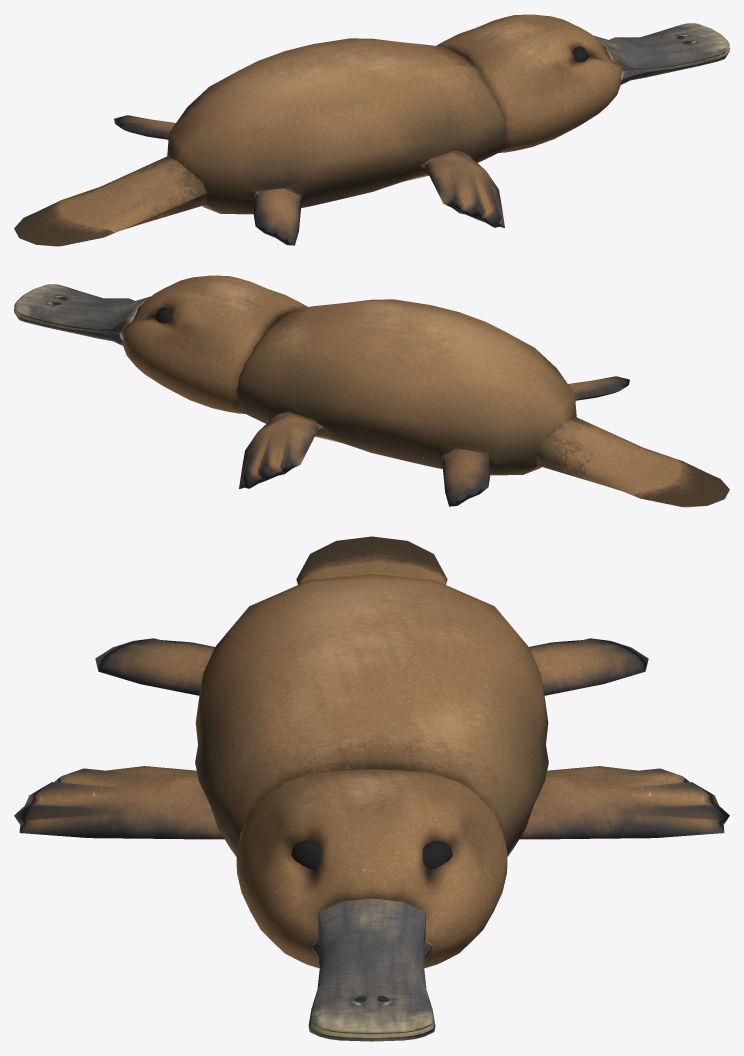
The model's file is platypus.dae.
3 renders of one model, top to bottom at view 1: azimuth 30°, elevation 25°; view 2: azimuth 150°, elevation 25°; view 3: azimuth 270°, elevation 25°, orthographic. The views are drawn at different scales.
Parts seen in each view (by area): view 1: Platypus; view 2: Platypus; view 3: Platypus.
Part boxes in pixels (<box>): Platypus: <box>14,14,729,246</box>; Platypus: <box>14,275,729,507</box>; Platypus: <box>14,536,729,1041</box>.
Bounding box in the file's own units: 28.86 × 15.9 × 4.79.
